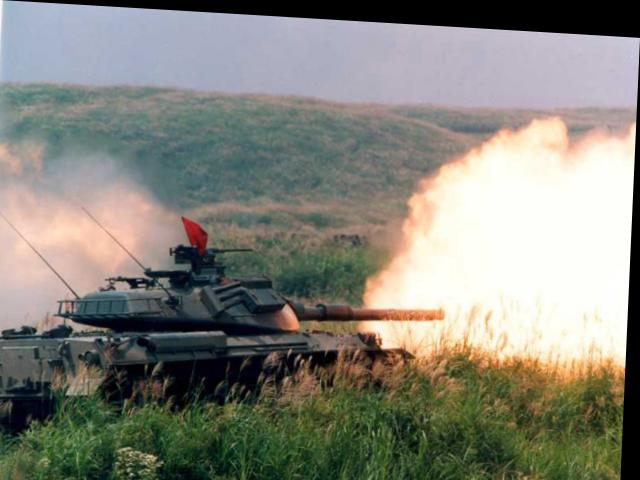tank: (0, 232, 391, 431)
